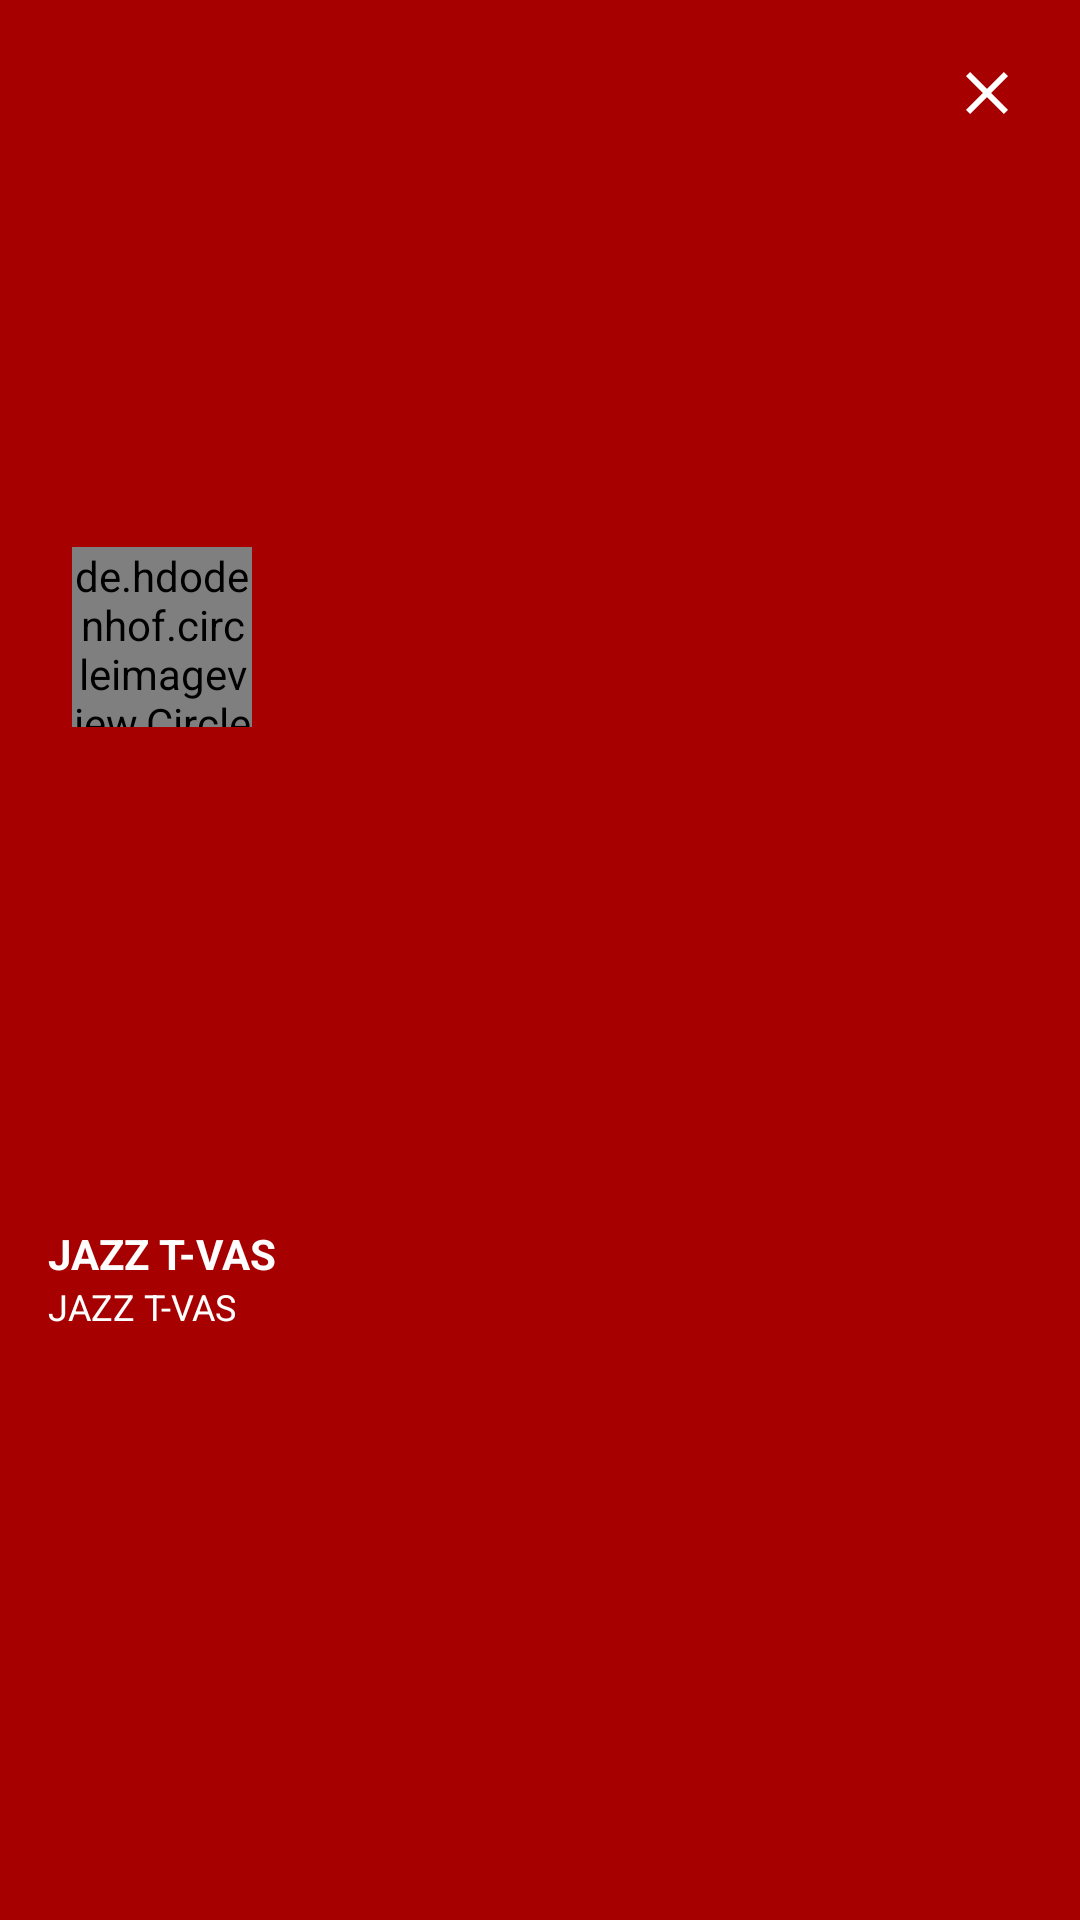

Icon click points for this 1080*1920 phone screenshot, format point (x, y):
close: point (987, 93)
